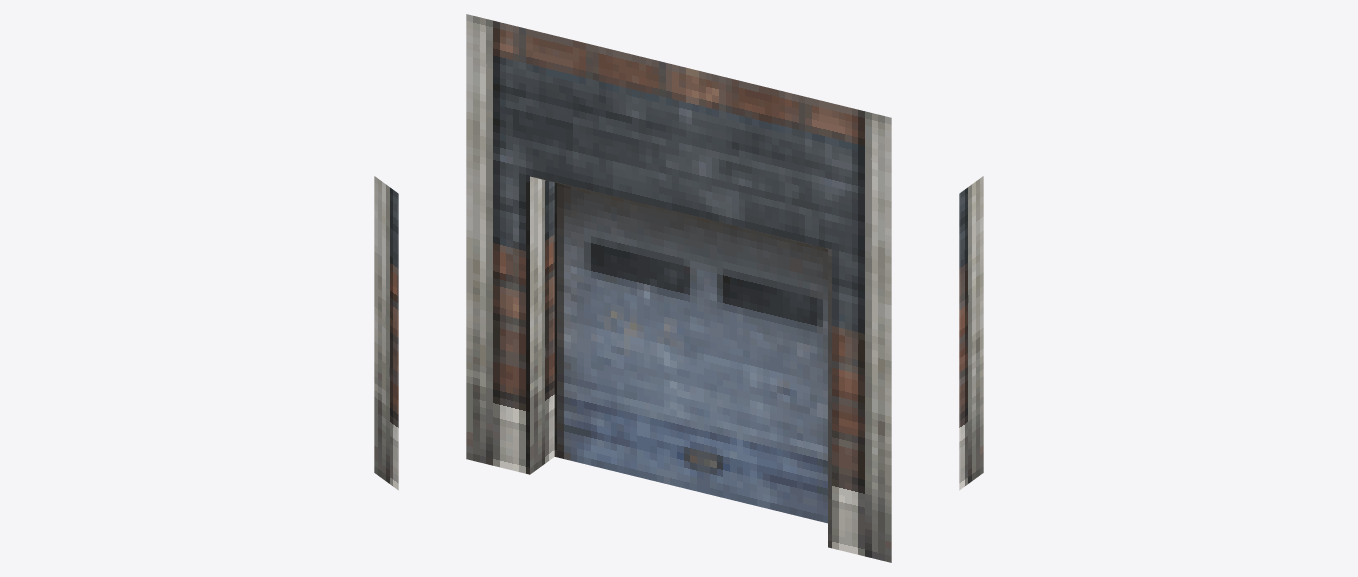
Rendered from wall-a-flat-garage.opt.glb.
3 views of the same model, side by side, from view 1: azimuth 30°, elevation 25°; view 2: azimuth 150°, elevation 25°; view 3: azimuth 330°, elevation 25° (orthographic).
Size of the model in its own units: 1 by 1 by 0.1.
3 materials, 3 textured.
